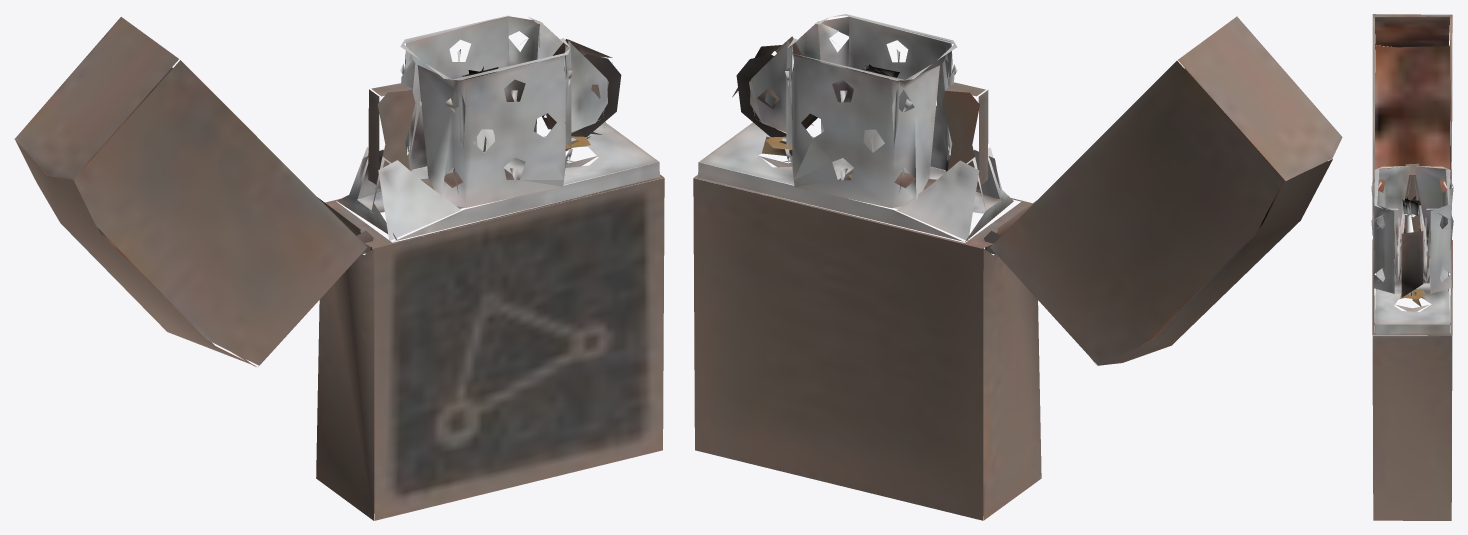
The model's file is lighter.glb.
3 views of the same model, side by side, from view 1: azimuth 30°, elevation 25°; view 2: azimuth 150°, elevation 25°; view 3: azimuth 270°, elevation 25° (orthographic). The views are drawn at different scales.
Parts seen in each view (by area): view 1: vintage_lighter_body; view 2: vintage_lighter_body; view 3: vintage_lighter_body.
Part boxes in pixels (left/top/right/bottom): vintage_lighter_body: left=14, top=15, right=664, bottom=520; vintage_lighter_body: left=693, top=14, right=1342, bottom=520; vintage_lighter_body: left=1371, top=14, right=1453, bottom=520.
Size of the model in its own units: 0.0795 by 0.0646 by 0.0139.
Materials: 2 (2 with a texture image).
